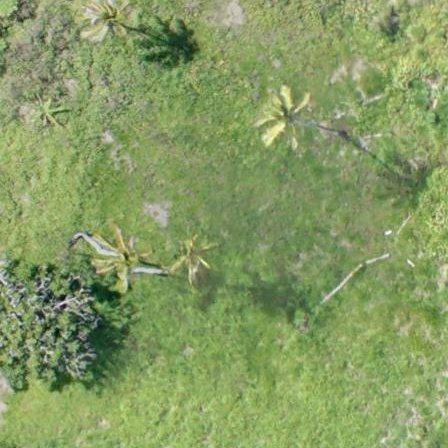palm_tree: (89, 225, 151, 286), (256, 87, 310, 144), (78, 1, 137, 46)
